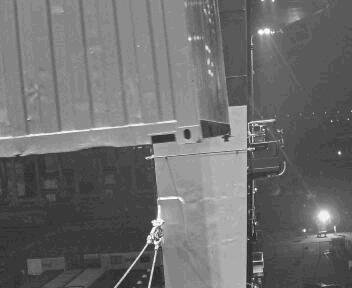twist_lock_1: (178, 142, 204, 163)
